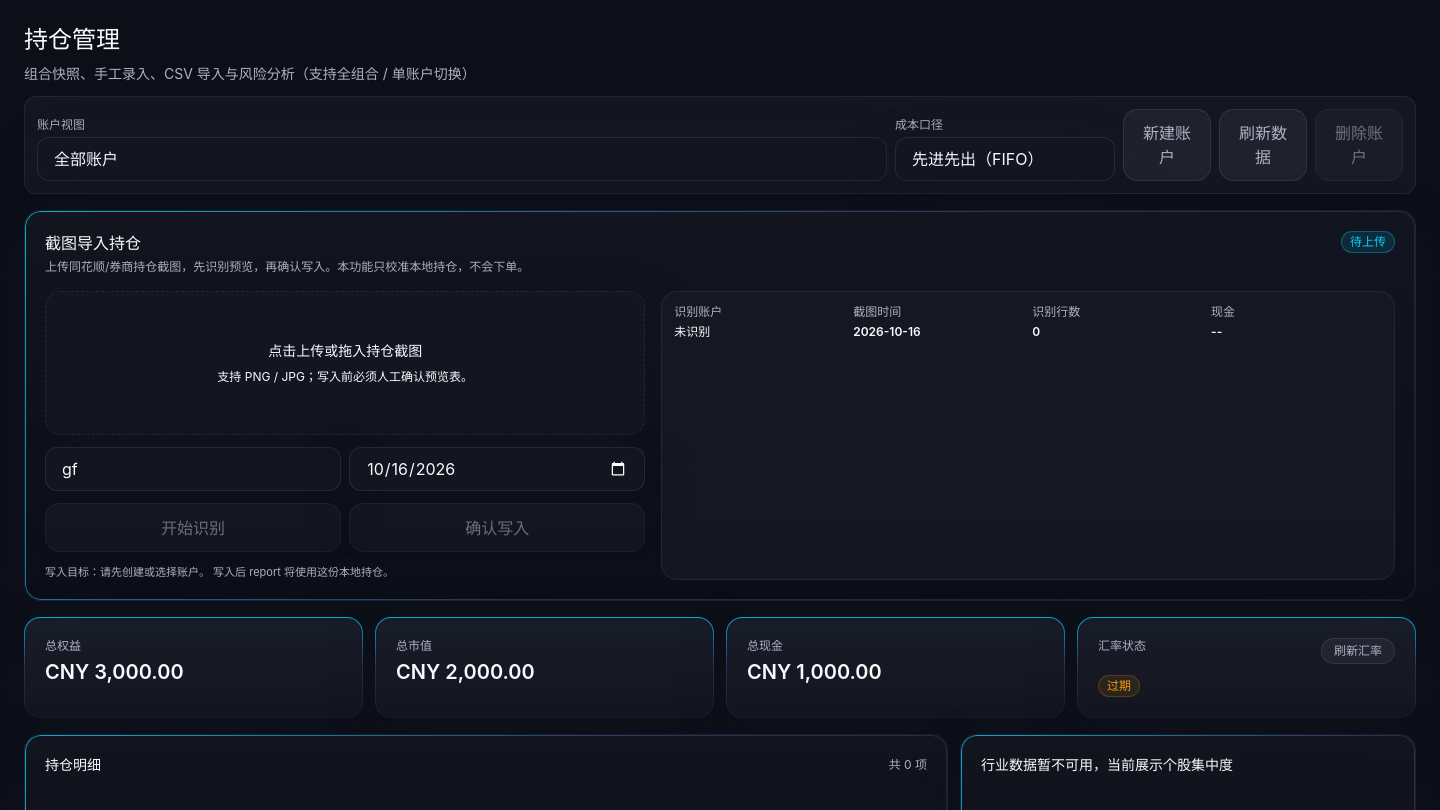
Test: PortfolioPage FX refresh › deactivates the selected account from the account toolbar and reloads accounts
Select "Main (#1)" in the 1st dropdown at (462, 159), box left=37, top=137, right=887, bottom=181
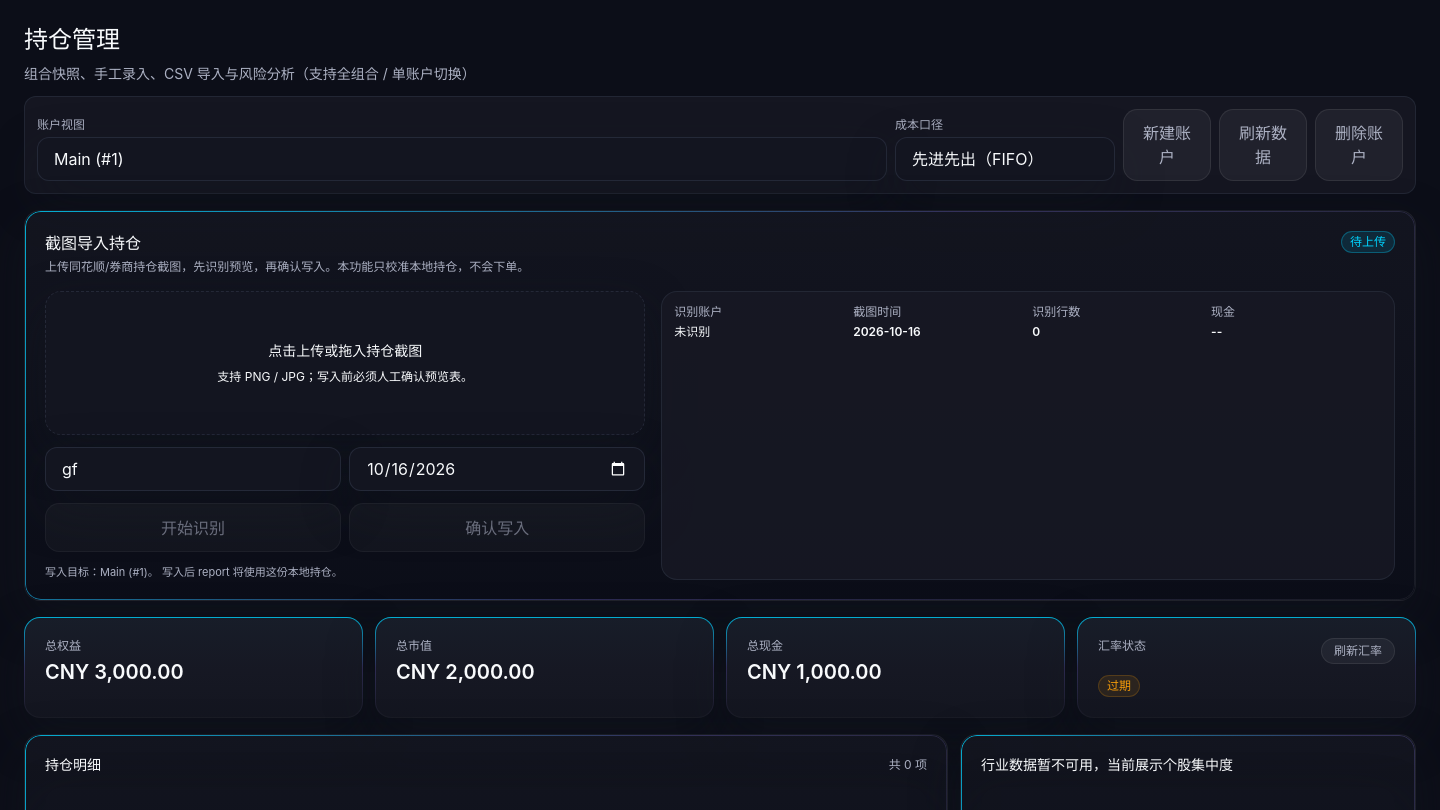
Click the button "删除账户" at (1359, 145), box left=1315, top=109, right=1403, bottom=181
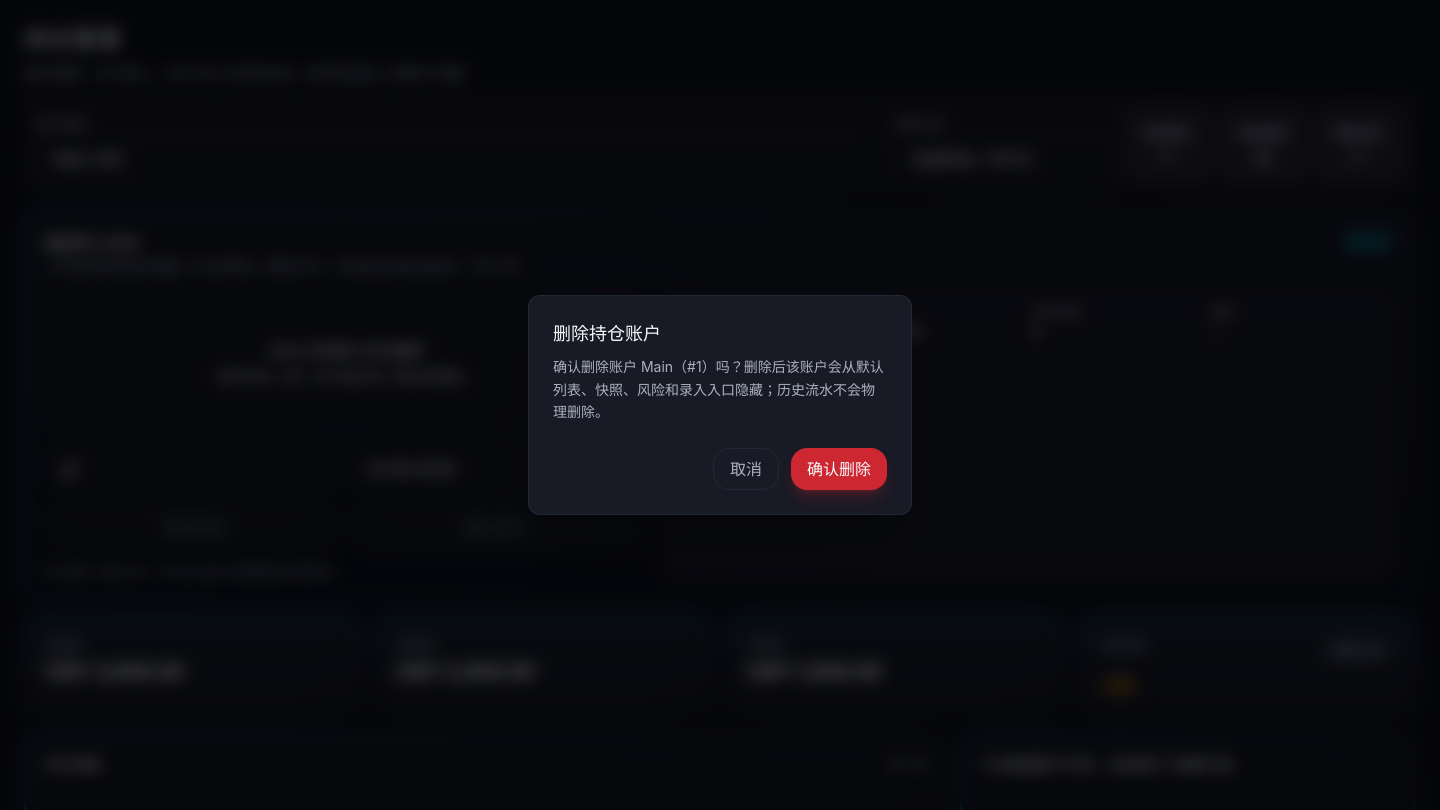
Now the text "删除后该账户会从默认列表、快照、风险和录入入口隐藏" is shown, box left=553, top=358, right=884, bottom=420
Click the button "确认删除" at (839, 469), box left=791, top=448, right=887, bottom=490
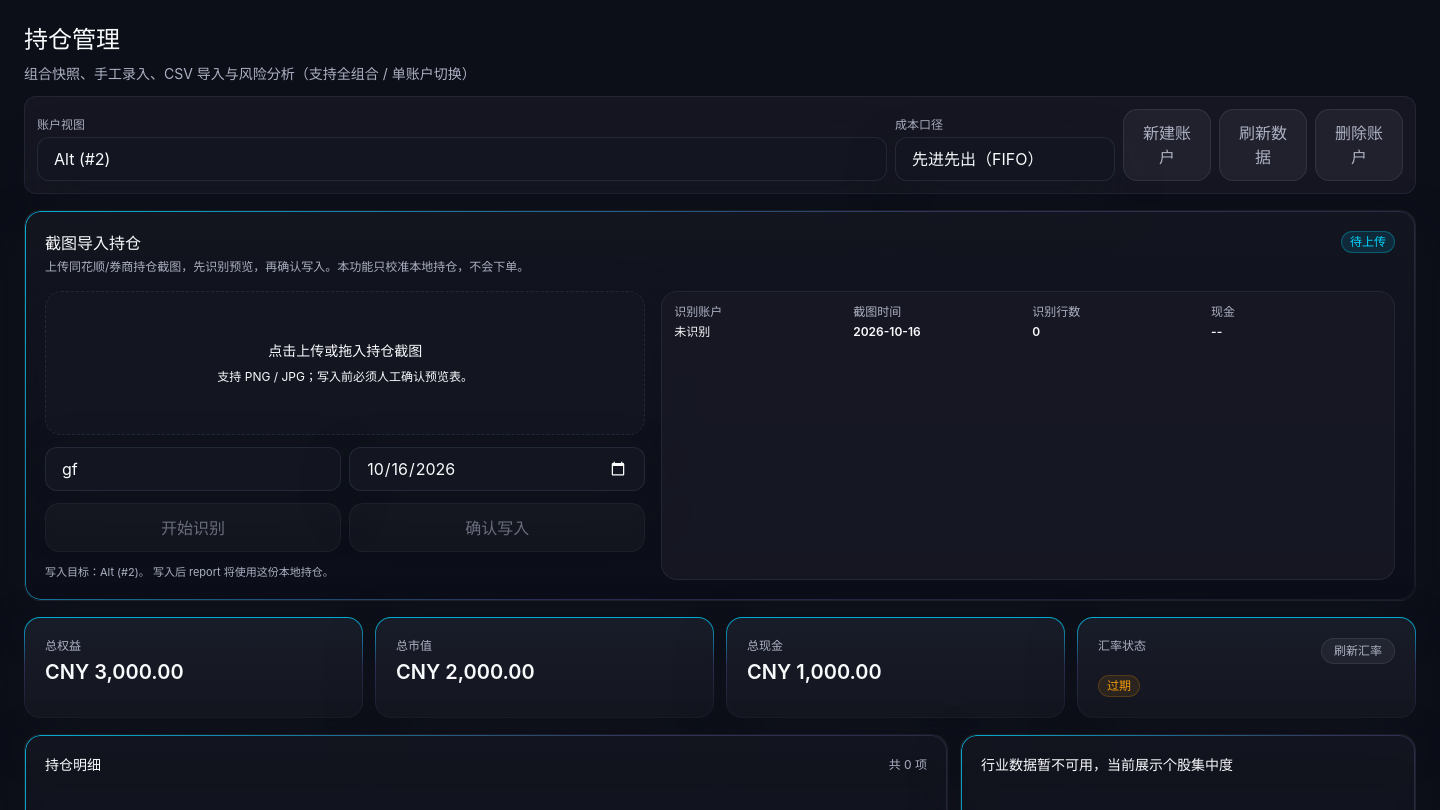
Now the text "Main (#1)" is gone
